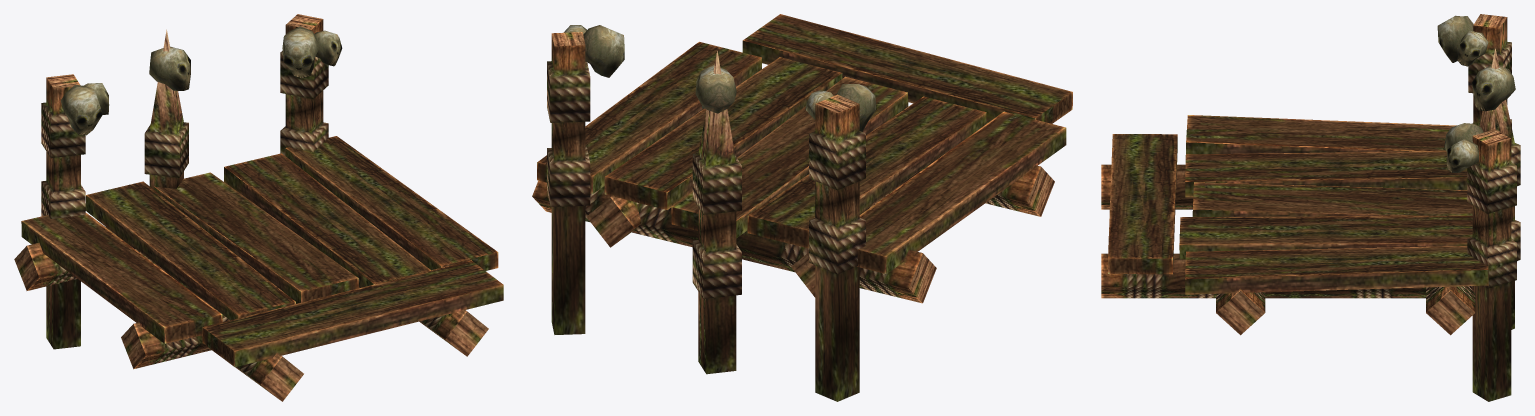
The model's file is WoodBridgeRoad03.FBX.
The picture shows the model from 3 angles, left to right: view 1: azimuth 30°, elevation 25°; view 2: azimuth 150°, elevation 25°; view 3: azimuth 270°, elevation 25°; orthographic projection. The views are drawn at different scales.
Parts seen in each view (by area): view 1: WoodBridgeRoad03; view 2: WoodBridgeRoad03; view 3: WoodBridgeRoad03.
Part boxes in pixels (left/top/right/bottom): WoodBridgeRoad03: left=14, top=14, right=503, bottom=401; WoodBridgeRoad03: left=532, top=14, right=1072, bottom=401; WoodBridgeRoad03: left=1101, top=14, right=1520, bottom=401.
Size of the model in its own units: 500 by 401 by 542.
